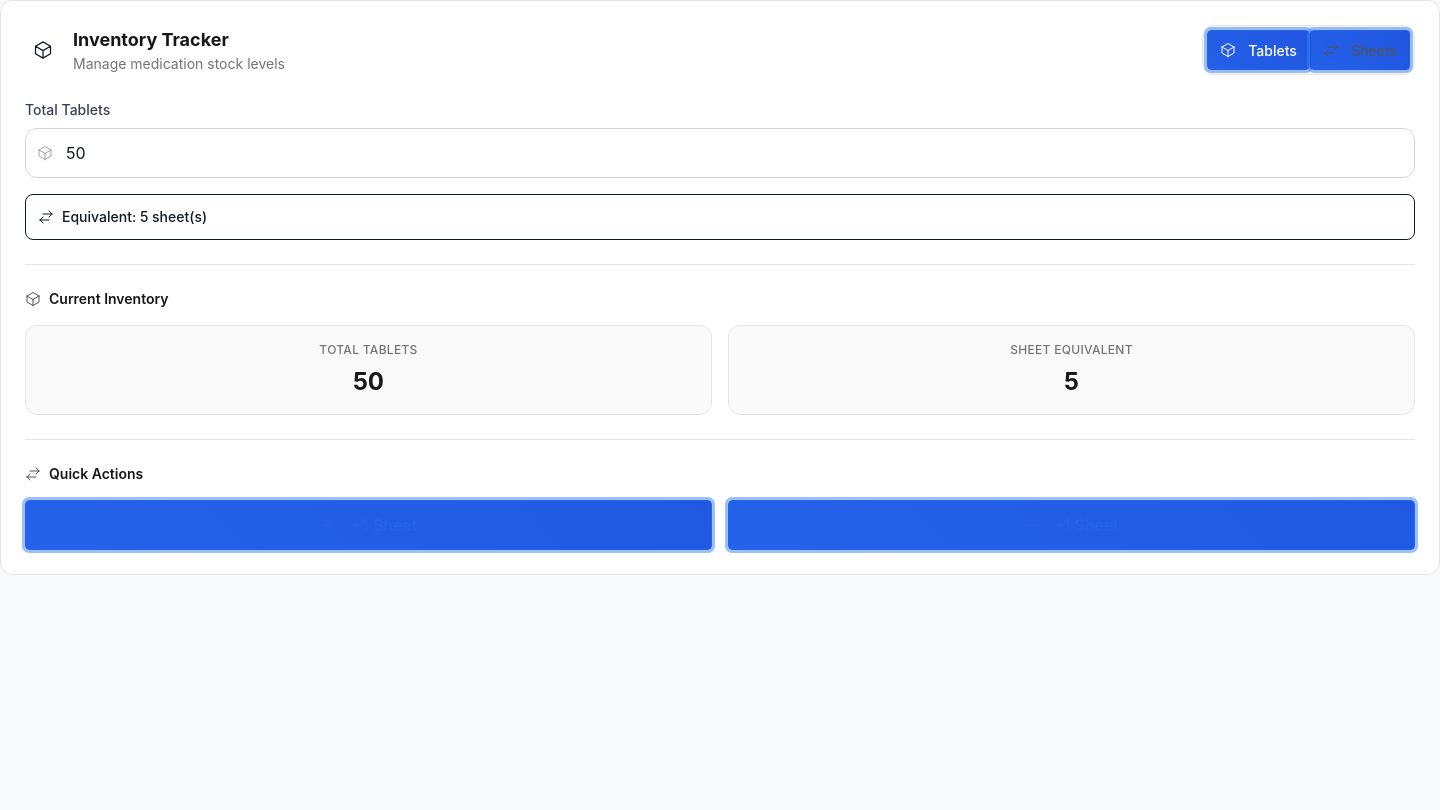
Test case: InventoryTracker › validates input values
This screenshot has width=1440, height=810.
Enter negative value
Replace the text in the number field labelled "Total Tablets" with "-5" at {"x": 720, "y": 153}, box [25,128,1415,178]
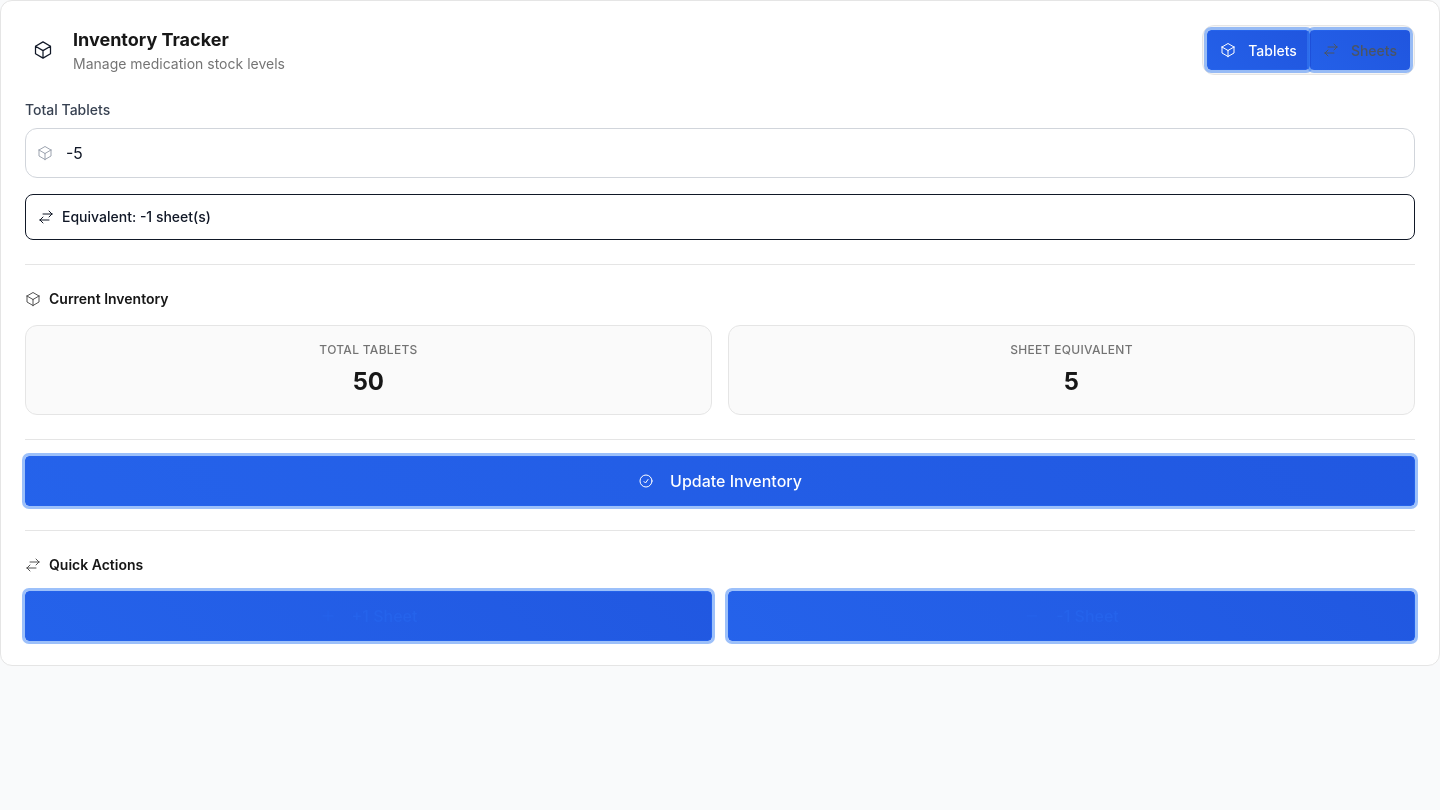
Click the button "Update Inventory" at {"x": 720, "y": 481}, box [25,456,1415,506]
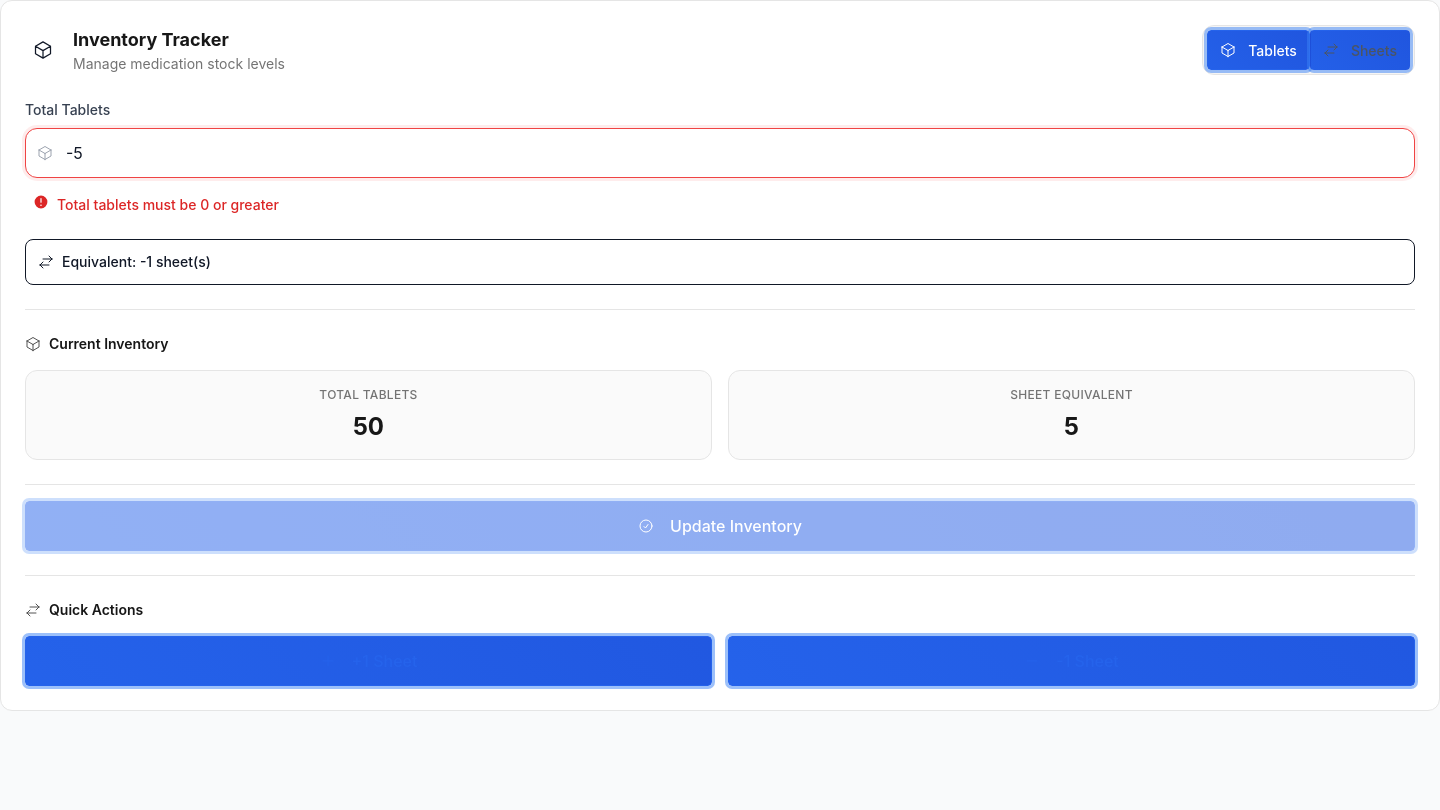
Now the text "Total tablets must be 0 or greater" is shown, box [57,194,279,215]
